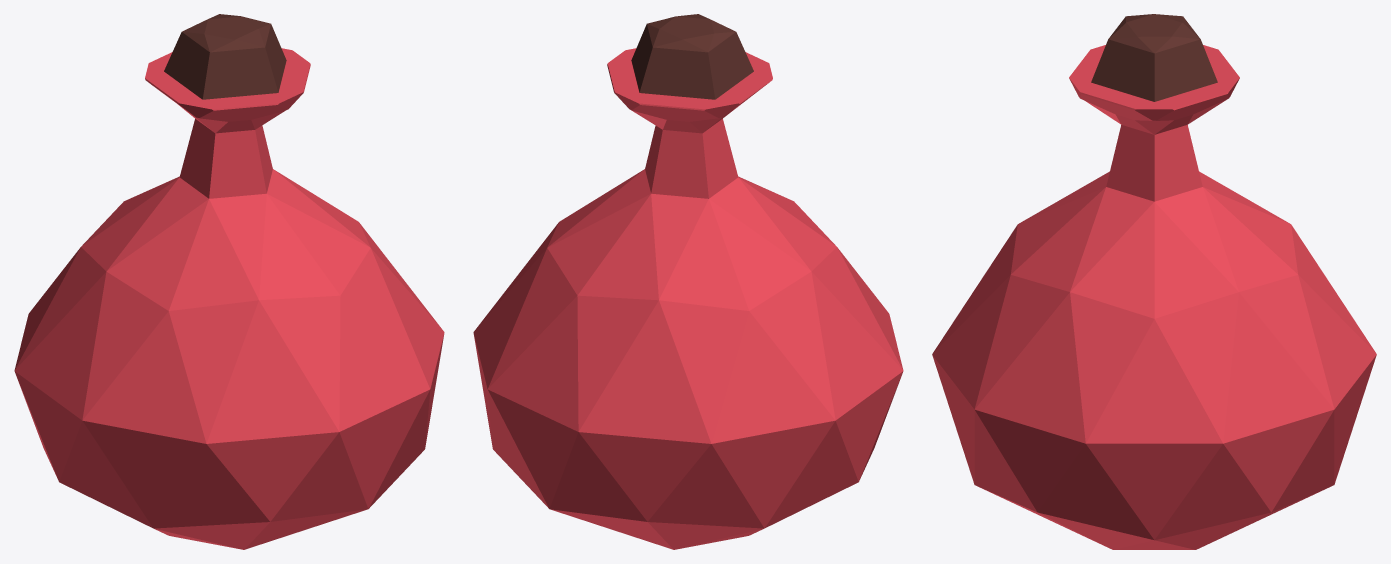
Rendered from Potion3.fbx.
The picture shows the model from 3 angles, left to right: view 1: azimuth 30°, elevation 25°; view 2: azimuth 150°, elevation 25°; view 3: azimuth 270°, elevation 25°; orthographic projection.
Parts seen in each view (by area): view 1: Icosphere; view 2: Icosphere; view 3: Icosphere.
Boxes of the visible parts, <box> form: Icosphere: <box>14,14,444,549</box>; Icosphere: <box>473,14,903,549</box>; Icosphere: <box>932,14,1376,549</box>.
Bounding box in the file's own units: 190 × 248 × 200.
